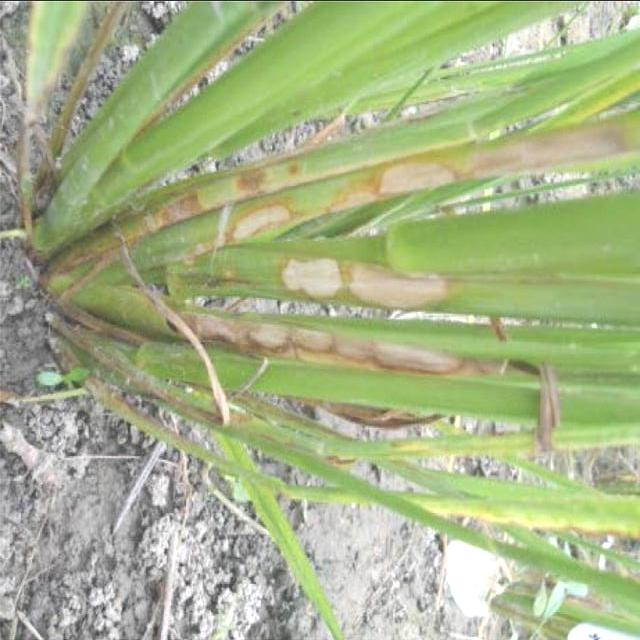Bacterial_Leaf_Blight: (231, 156, 462, 247), (175, 306, 465, 374), (461, 124, 626, 177), (280, 254, 450, 304)
